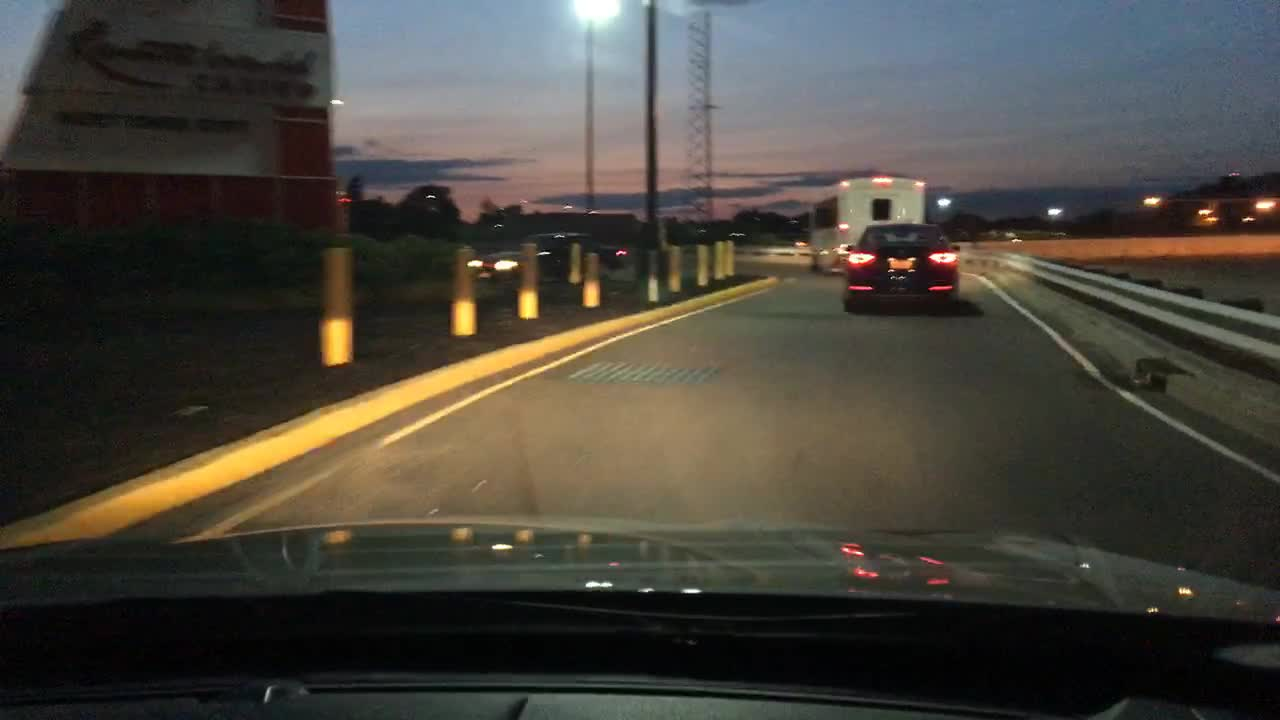bus: (807, 176, 927, 274)
car: (839, 220, 961, 313), (463, 231, 628, 292), (792, 239, 805, 248)
